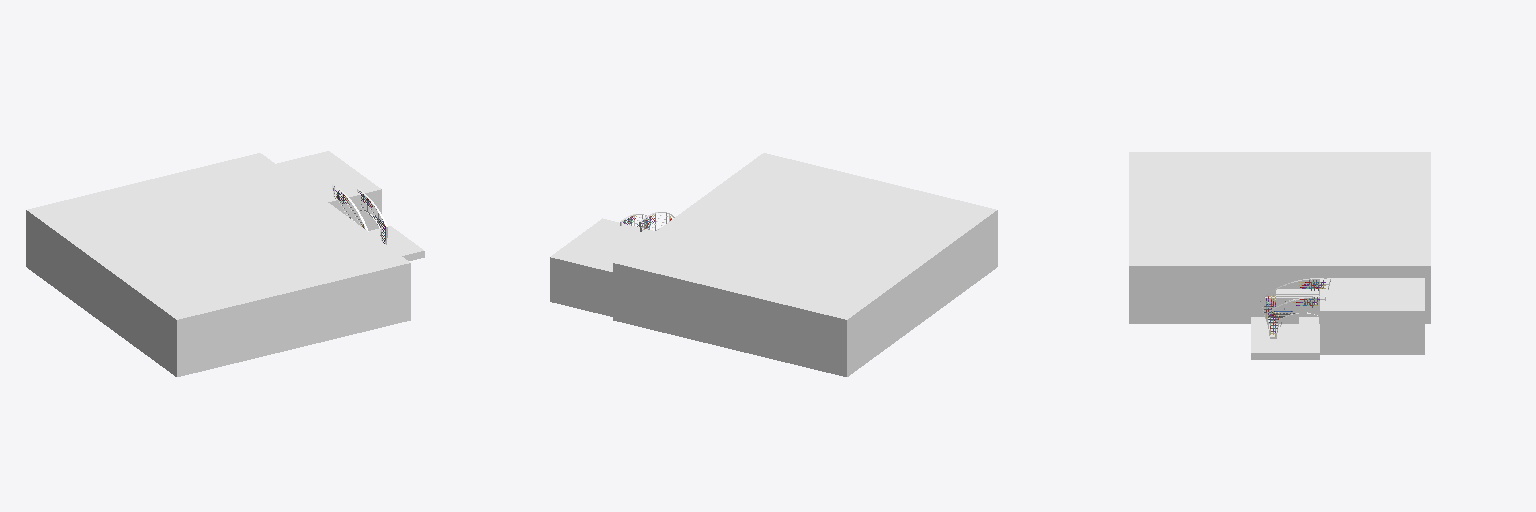
File: model-wip.obj
3 views of the same model, side by side, from view 1: azimuth 30°, elevation 25°; view 2: azimuth 150°, elevation 25°; view 3: azimuth 270°, elevation 25° (orthographic).
Parts seen in each view (by area): view 1: Mesh4 Group4 Model, Mesh2 Group2 Model, Mesh1 Group1 Model; view 2: Mesh4 Group4 Model, Mesh2 Group2 Model; view 3: Mesh4 Group4 Model, Mesh2 Group2 Model, Mesh1 Group1 Model, Mesh3 Group3 Model.
Part boxes in pixels (x1,y1,x2,y2): Mesh4 Group4 Model: (26, 153, 410, 376); Mesh2 Group2 Model: (276, 151, 381, 230); Mesh1 Group1 Model: (369, 226, 424, 260); Mesh4 Group4 Model: (613, 153, 997, 376); Mesh2 Group2 Model: (550, 218, 655, 316); Mesh4 Group4 Model: (1129, 152, 1430, 323); Mesh2 Group2 Model: (1320, 278, 1424, 354); Mesh1 Group1 Model: (1251, 317, 1319, 359); Mesh3 Group3 Model: (1276, 289, 1318, 323).
Bounding box in the file's own units: 140 × 25 × 119.